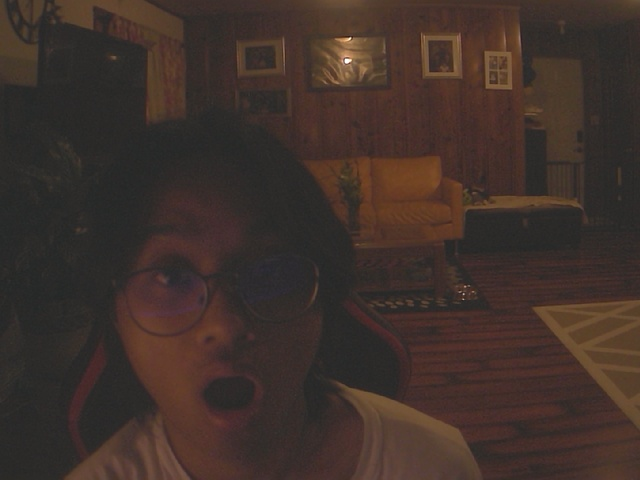fear: (93, 117, 352, 456)
